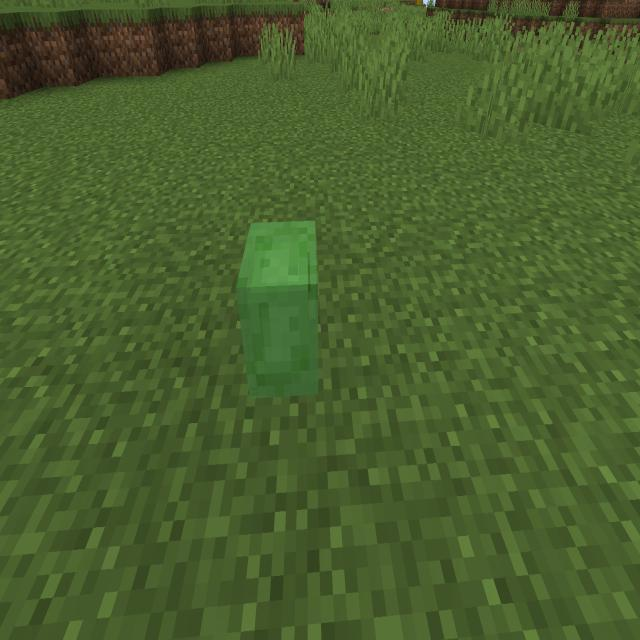Slime: (233, 212, 327, 418)
